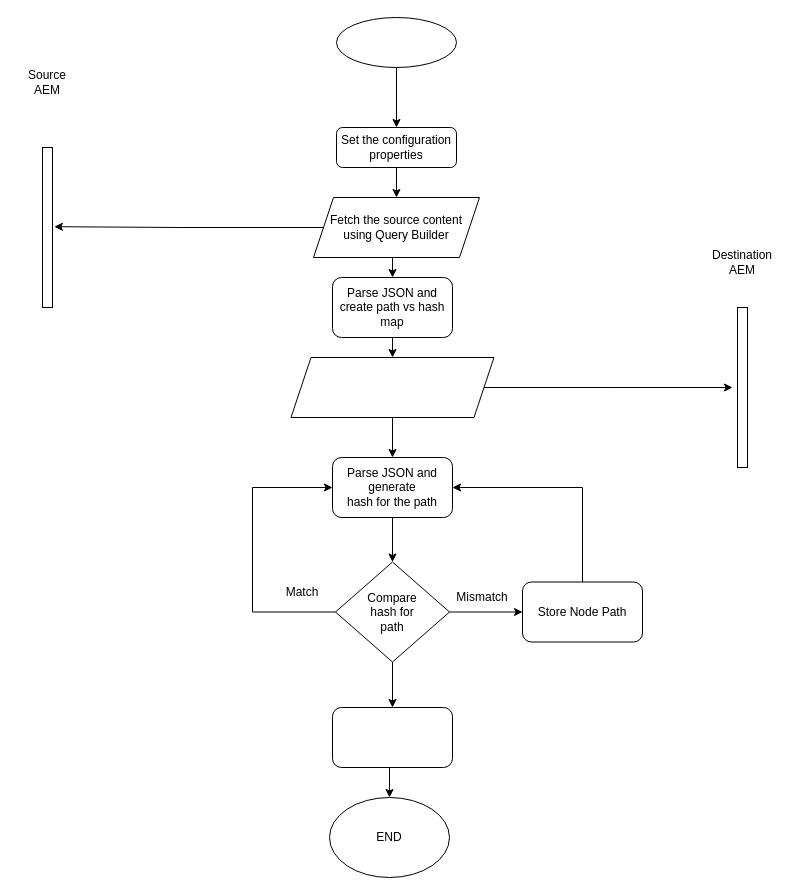
Image size: 789x895. Some labels were removed from this diagram. The centre of each missing label's shape, as x and y in pixels:
Display Results: the point at 392,737
Fetch the destination content using Query Builder: the point at 392,387
Start: the point at 396,42
